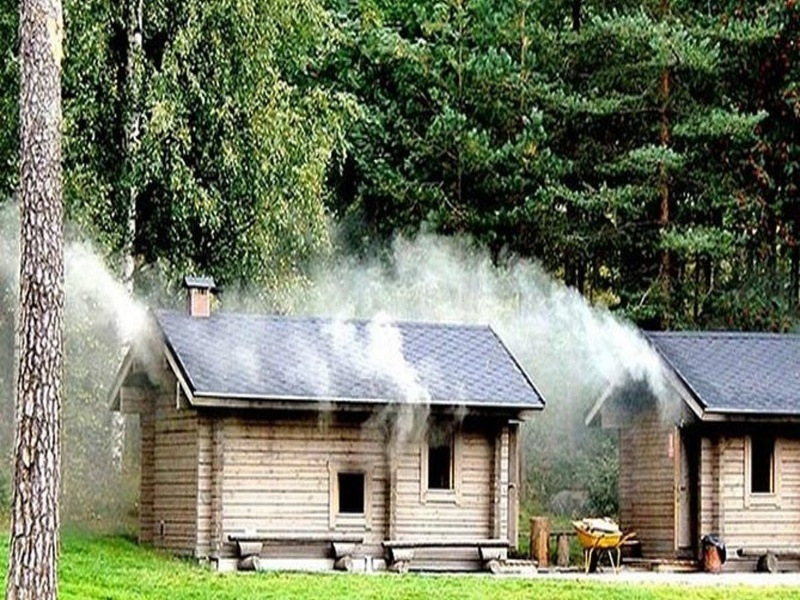smoke: (57, 237, 675, 402)
